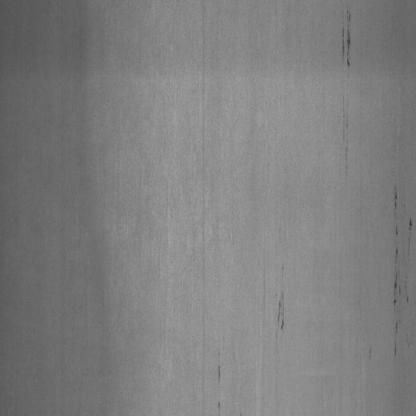inclusion: (390, 182, 414, 356), (338, 7, 358, 163), (270, 270, 290, 337), (210, 332, 226, 413)
